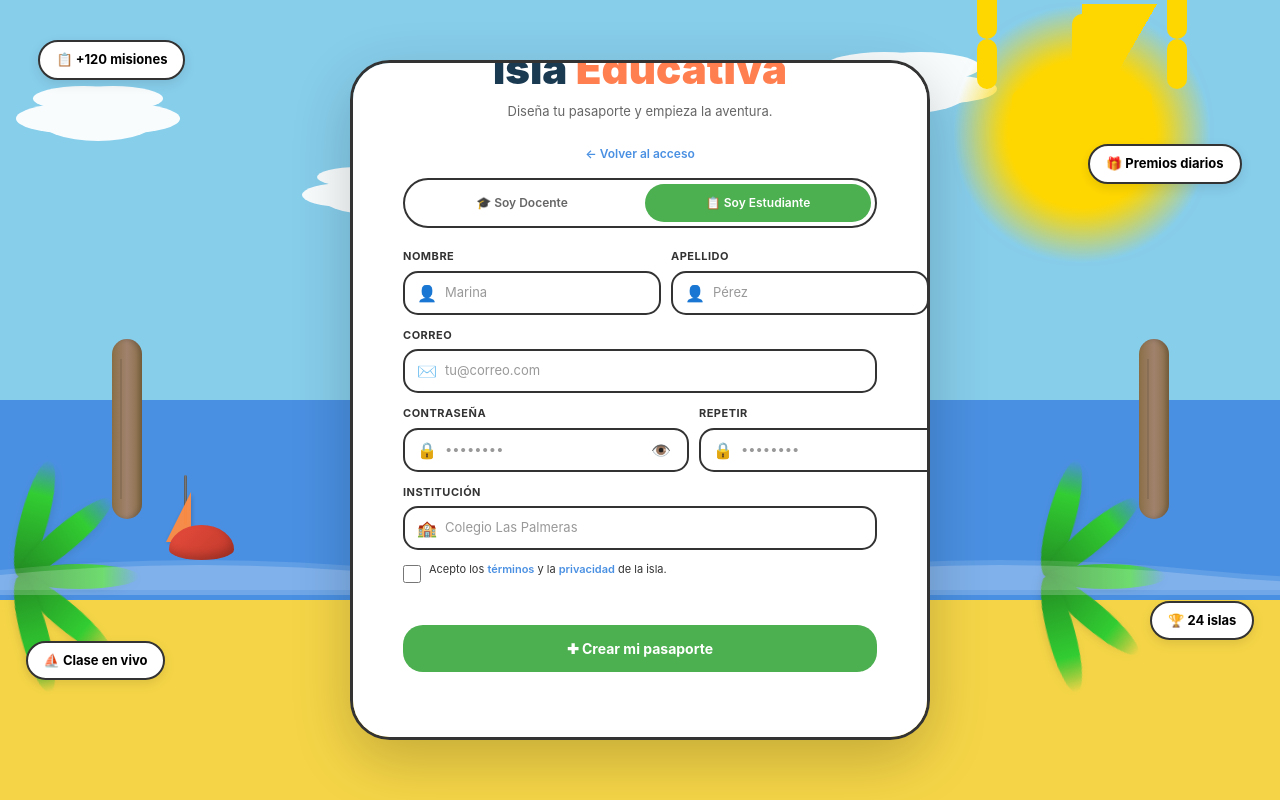
Test case: Integration: RegisterPage › valida campos requeridos
The image size is (1280, 800).
(page scrolled)
Step 1. Click the button "✚ Crear mi pasaporte" → (640, 649), box left=403, top=625, right=877, bottom=672
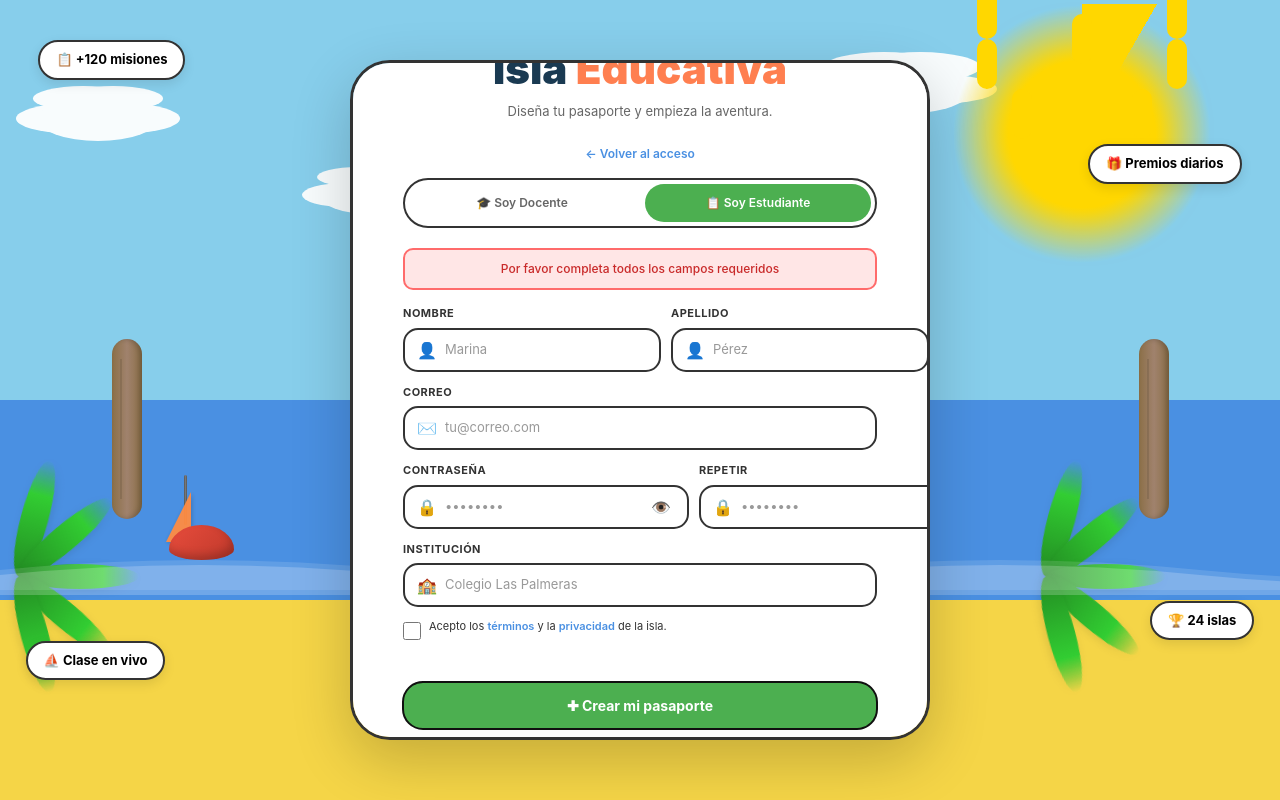
Expected: the text "Por favor completa todos los campos requeridos" is shown, left=403, top=248, right=877, bottom=290
